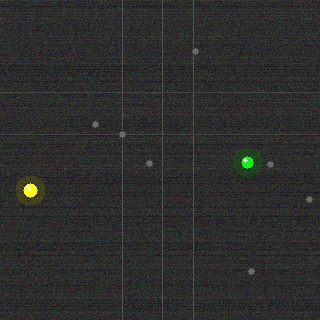green_normal: (239, 154, 255, 170)
yellow_warning: (21, 181, 39, 199)
